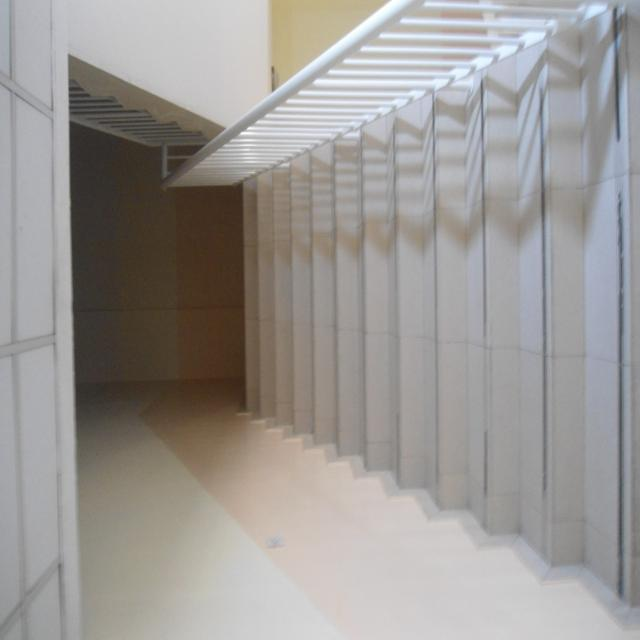railing: (161, 0, 609, 188)
stairs: (244, 3, 640, 607)
